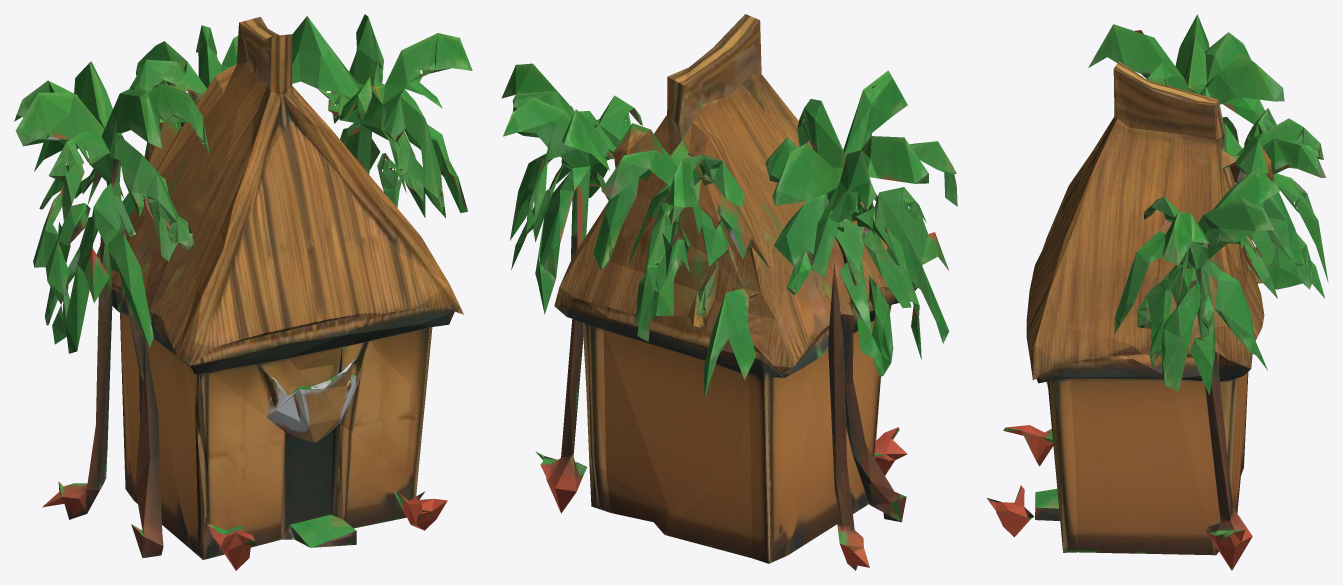
File: guaranies_casa.glb
3 renders of one model, left to right at view 1: azimuth 30°, elevation 25°; view 2: azimuth 150°, elevation 25°; view 3: azimuth 270°, elevation 25°, orthographic. The views are drawn at different scales.
Visible parts, largest first — view 1: geometry_0; view 2: geometry_0; view 3: geometry_0.
Boxes of the visible parts, bbox=[...] form: geometry_0: bbox=[14, 14, 472, 570]; geometry_0: bbox=[501, 14, 957, 570]; geometry_0: bbox=[987, 14, 1328, 570].
Size of the model in its own units: 1.4 by 1.48 by 1.02.
Materials: 1 (1 with a texture image).
